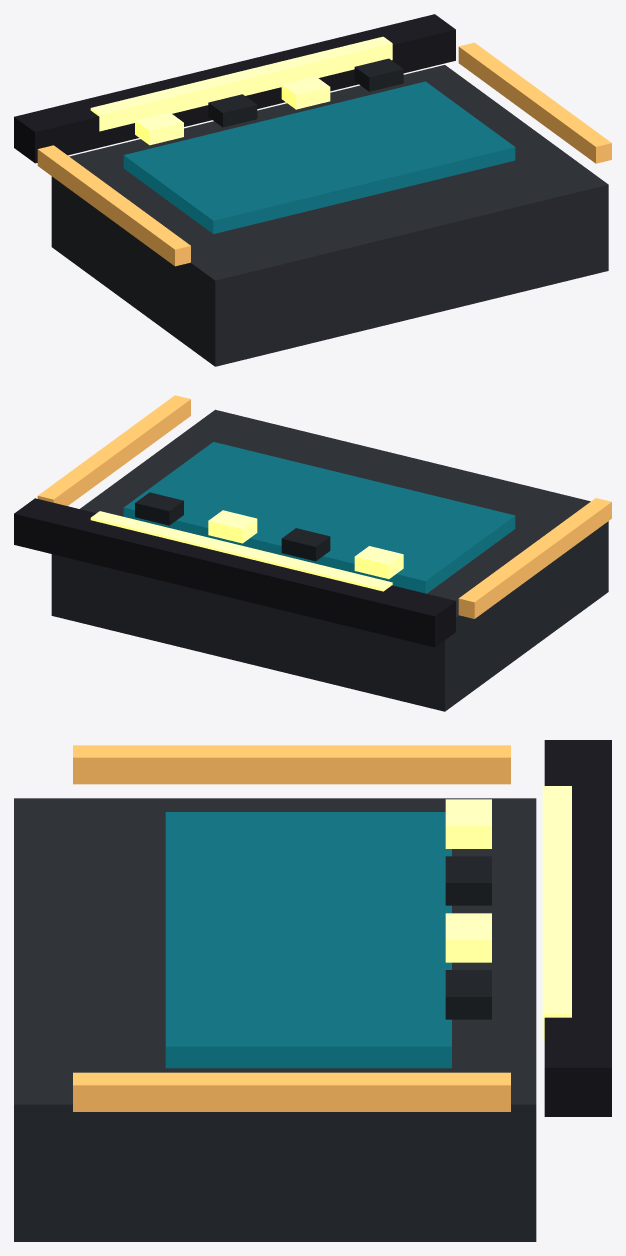
Rendered from settings_control.glb.
The picture shows the model from 3 angles, top to bottom: view 1: azimuth 30°, elevation 25°; view 2: azimuth 150°, elevation 25°; view 3: azimuth 270°, elevation 25°; orthographic projection. The views are drawn at different scales.
Visible parts, largest first — view 1: settings_control_low_housing, settings_control_screen_glass, settings_control_front_lip, settings_control_accent_front_trace, settings_control_warm_side_trim_l, settings_control_warm_side_trim_r, settings_control_small_key_3, settings_control_small_key_1, settings_control_small_key_2, settings_control_small_key_0; view 2: settings_control_low_housing, settings_control_screen_glass, settings_control_front_lip, settings_control_warm_side_trim_l, settings_control_warm_side_trim_r, settings_control_accent_front_trace, settings_control_small_key_1, settings_control_small_key_2, settings_control_small_key_0, settings_control_small_key_3; view 3: settings_control_low_housing, settings_control_screen_glass, settings_control_front_lip, settings_control_warm_side_trim_l, settings_control_warm_side_trim_r, settings_control_accent_front_trace, settings_control_small_key_0, settings_control_small_key_1, settings_control_small_key_2, settings_control_small_key_3.
Part boxes in pixels (x1=…): settings_control_low_housing: x1=51, y1=65, x2=608, y2=366; settings_control_screen_glass: x1=123, y1=81, x2=515, y2=233; settings_control_front_lip: x1=14, y1=14, x2=455, y2=163; settings_control_accent_front_trace: x1=90, y1=36, x2=392, y2=131; settings_control_warm_side_trim_l: x1=37, y1=145, x2=190, y2=266; settings_control_warm_side_trim_r: x1=458, y1=42, x2=611, y2=163; settings_control_small_key_3: x1=354, y1=58, x2=403, y2=91; settings_control_small_key_1: x1=208, y1=94, x2=257, y2=127; settings_control_small_key_2: x1=281, y1=76, x2=330, y2=109; settings_control_small_key_0: x1=135, y1=112, x2=183, y2=145; settings_control_low_housing: x1=51, y1=409, x2=608, y2=711; settings_control_screen_glass: x1=123, y1=442, x2=515, y2=593; settings_control_front_lip: x1=14, y1=498, x2=455, y2=647; settings_control_warm_side_trim_l: x1=458, y1=498, x2=611, y2=618; settings_control_warm_side_trim_r: x1=37, y1=395, x2=190, y2=505; settings_control_accent_front_trace: x1=90, y1=511, x2=392, y2=591; settings_control_small_key_1: x1=281, y1=528, x2=330, y2=561; settings_control_small_key_2: x1=208, y1=510, x2=257, y2=543; settings_control_small_key_0: x1=354, y1=546, x2=403, y2=578; settings_control_small_key_3: x1=135, y1=492, x2=183, y2=525; settings_control_low_housing: x1=14, y1=798, x2=536, y2=1241; settings_control_screen_glass: x1=165, y1=812, x2=451, y2=1068; settings_control_front_lip: x1=544, y1=740, x2=611, y2=1116; settings_control_warm_side_trim_l: x1=73, y1=745, x2=510, y2=784; settings_control_warm_side_trim_r: x1=73, y1=1072, x2=510, y2=1111; settings_control_accent_front_trace: x1=542, y1=786, x2=571, y2=1040; settings_control_small_key_0: x1=445, y1=799, x2=491, y2=848; settings_control_small_key_1: x1=445, y1=856, x2=491, y2=905; settings_control_small_key_2: x1=445, y1=913, x2=491, y2=962; settings_control_small_key_3: x1=445, y1=970, x2=491, y2=1019.
Bounding box in the file's own units: 0.955 × 0.25 × 0.71.
